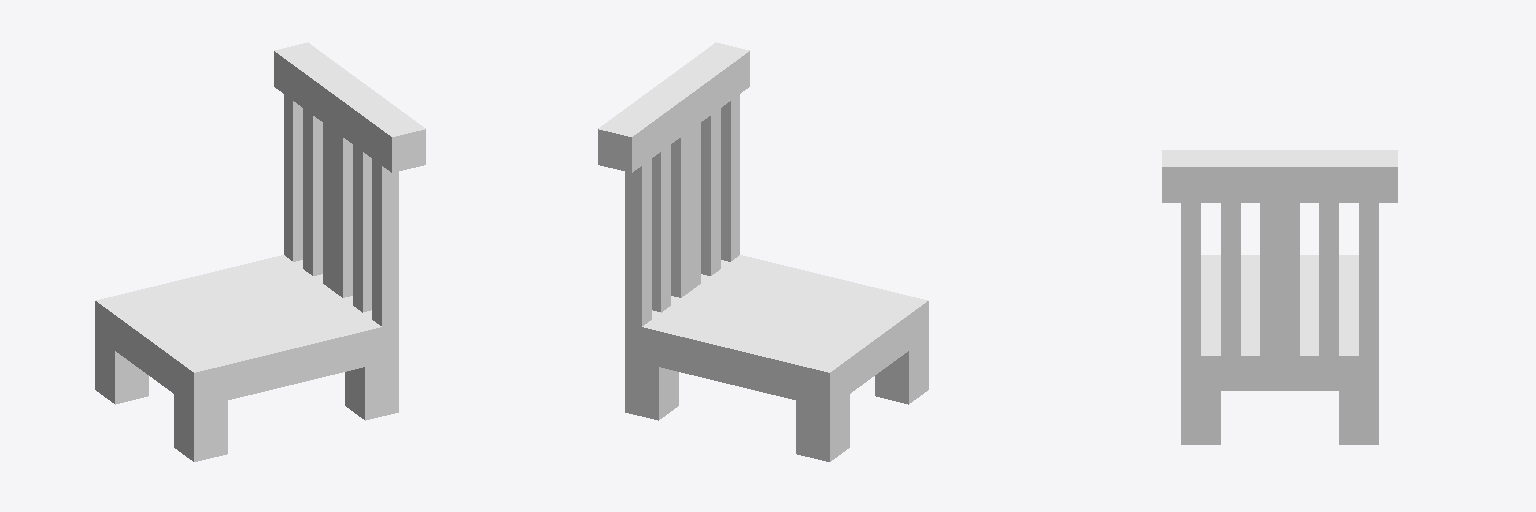
Rendered from TVS_VoxelKnights_Chair.obj.
3 renders of one model, left to right at view 1: azimuth 30°, elevation 25°; view 2: azimuth 150°, elevation 25°; view 3: azimuth 270°, elevation 25°, orthographic.
Parts seen in each view (by area): view 1: ObjObject.022; view 2: ObjObject.022; view 3: ObjObject.022.
Boxes of the visible parts, <box> form: ObjObject.022: <box>95,42,425,461</box>; ObjObject.022: <box>598,42,928,461</box>; ObjObject.022: <box>1162,150,1397,444</box>.
Size of the model in its own units: 1.3 by 1.6 by 1.2.